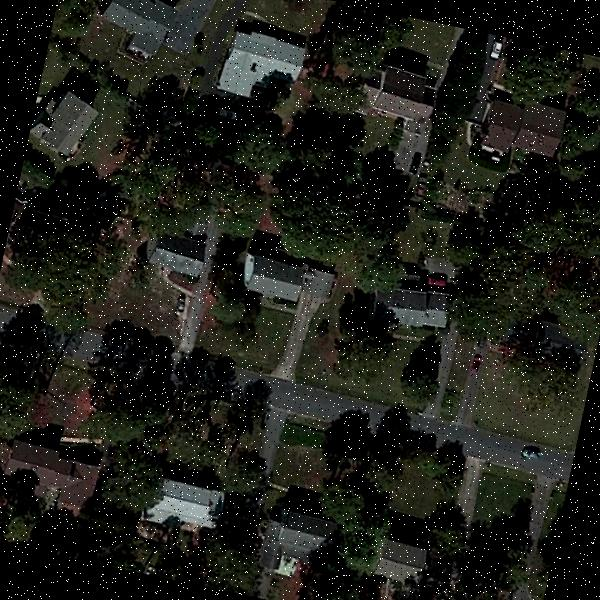Buildings: (220, 28, 301, 113), (232, 256, 334, 316), (476, 97, 564, 166), (1, 439, 98, 500), (34, 76, 102, 162), (366, 279, 456, 340), (350, 67, 434, 120), (141, 230, 211, 293), (259, 520, 336, 570), (100, 0, 168, 56), (157, 480, 224, 522), (380, 545, 423, 582)
